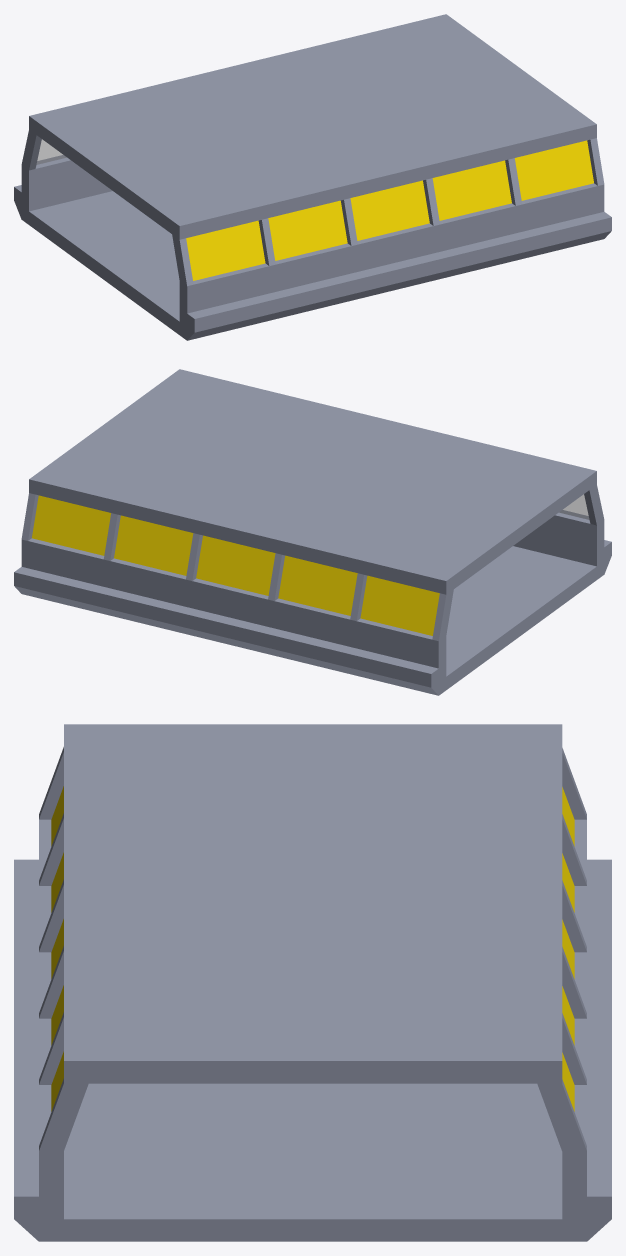
The model's file is tunnel_0002_length_v01.gltf.
The picture shows the model from 3 angles, top to bottom: view 1: azimuth 30°, elevation 25°; view 2: azimuth 150°, elevation 25°; view 3: azimuth 270°, elevation 25°; orthographic projection. The views are drawn at different scales.
Visible parts, largest first — view 1: massing, group_0.001, group_0.003, group_0.005, group_0.002, group_0.004; view 2: massing, group_0.006, group_0.007, group_0.008, group_0.010, group_0.009; view 3: massing.
Part boxes in pixels (x1,y1,x2,y2): massing: [14, 14, 611, 340]; group_0.001: [186, 220, 265, 280]; group_0.003: [515, 140, 593, 200]; group_0.005: [268, 200, 347, 260]; group_0.002: [432, 160, 511, 220]; group_0.004: [350, 180, 429, 240]; massing: [14, 369, 611, 695]; group_0.006: [32, 495, 110, 555]; group_0.007: [360, 575, 439, 635]; group_0.008: [278, 555, 357, 615]; group_0.010: [114, 515, 193, 575]; group_0.009: [196, 535, 275, 595]; massing: [14, 724, 611, 1241].
Size of what is drawn, in the model's own units: 16 by 4 by 12.
